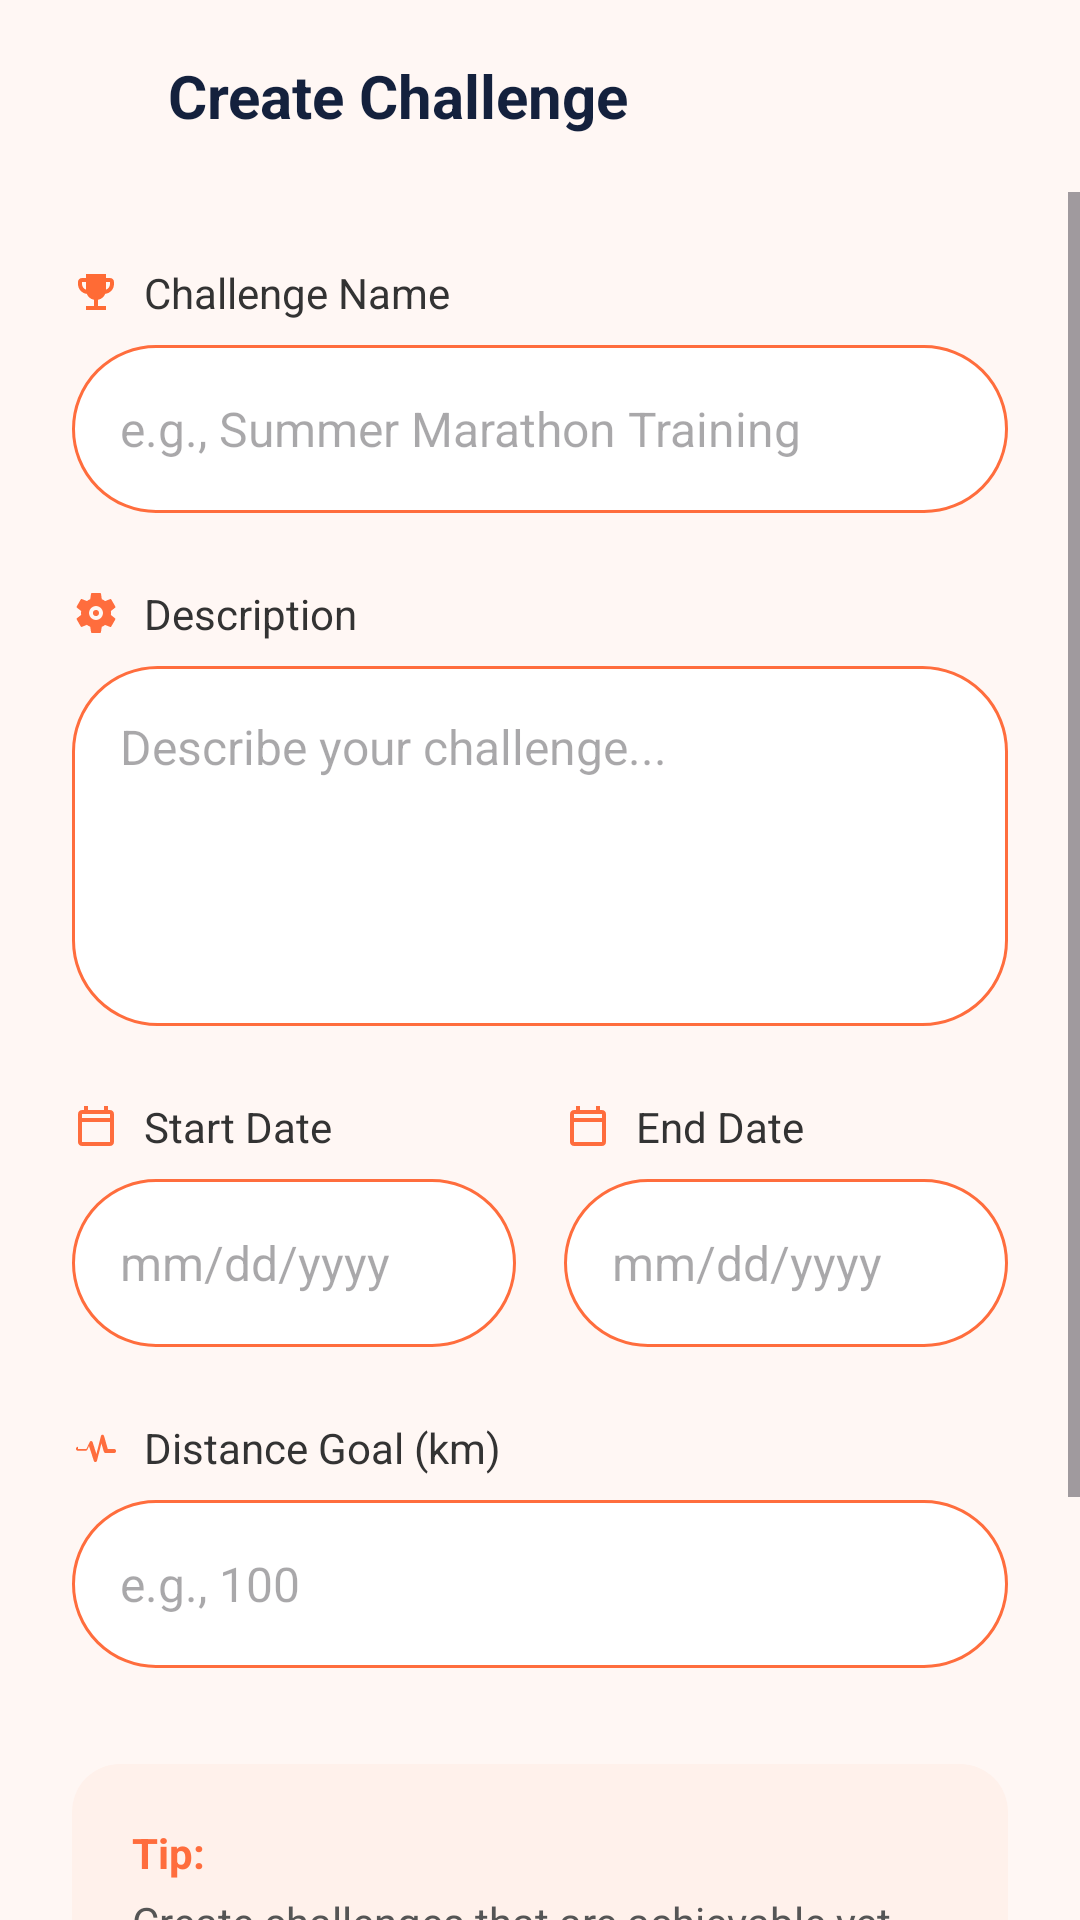

Named icons in this screenshot (1080 x 1920) and their centers, (x,y):
calendar: (96,1126), (588,1126)
pulse: (96,1448)
settings: (96,613)
trophy: (96,292)
